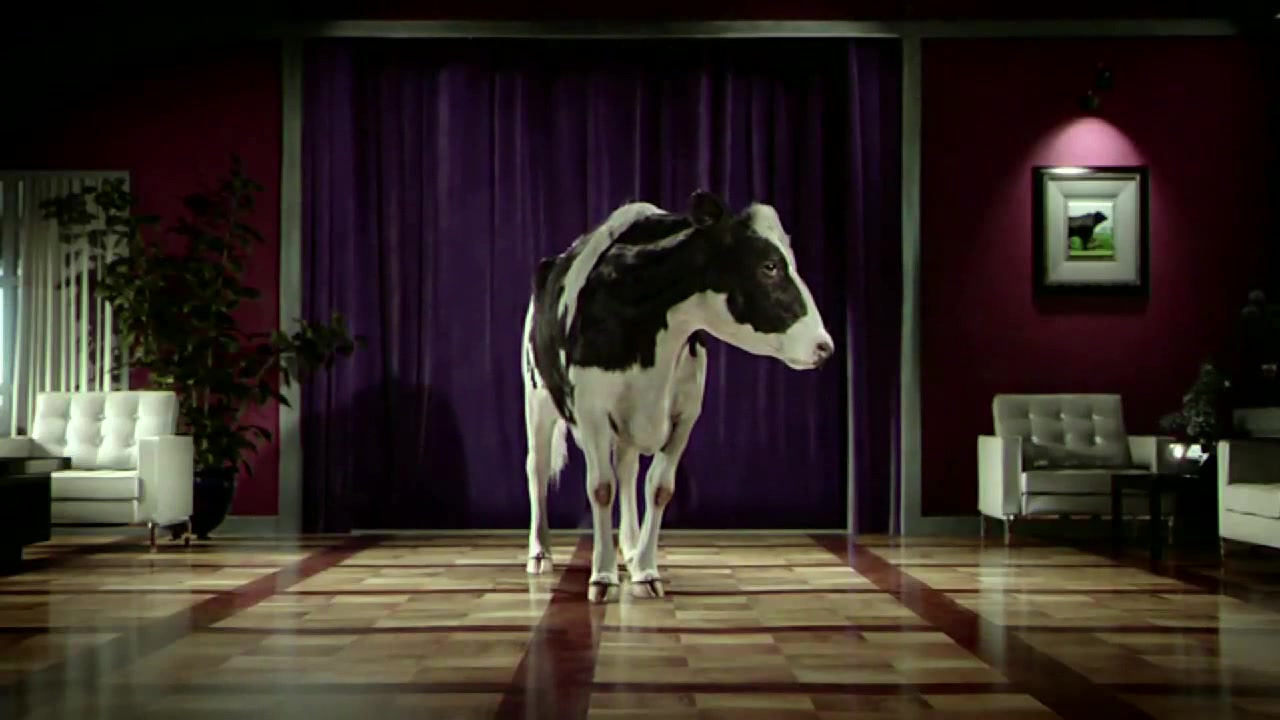cow: (518, 187, 839, 608)
